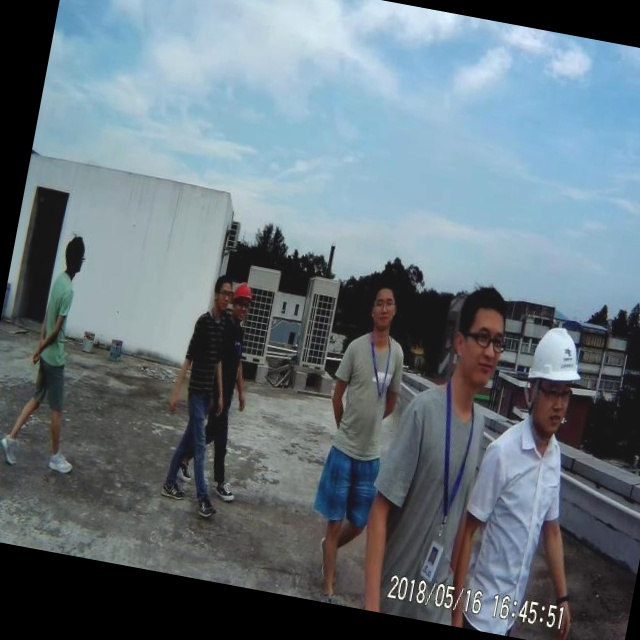Con_Casco: (520, 323, 589, 439)
Sin_Casco_Mascarrilla: (450, 279, 514, 391)
Sin_Chaleco: (374, 380, 490, 582), (459, 416, 578, 601), (320, 325, 411, 468)
